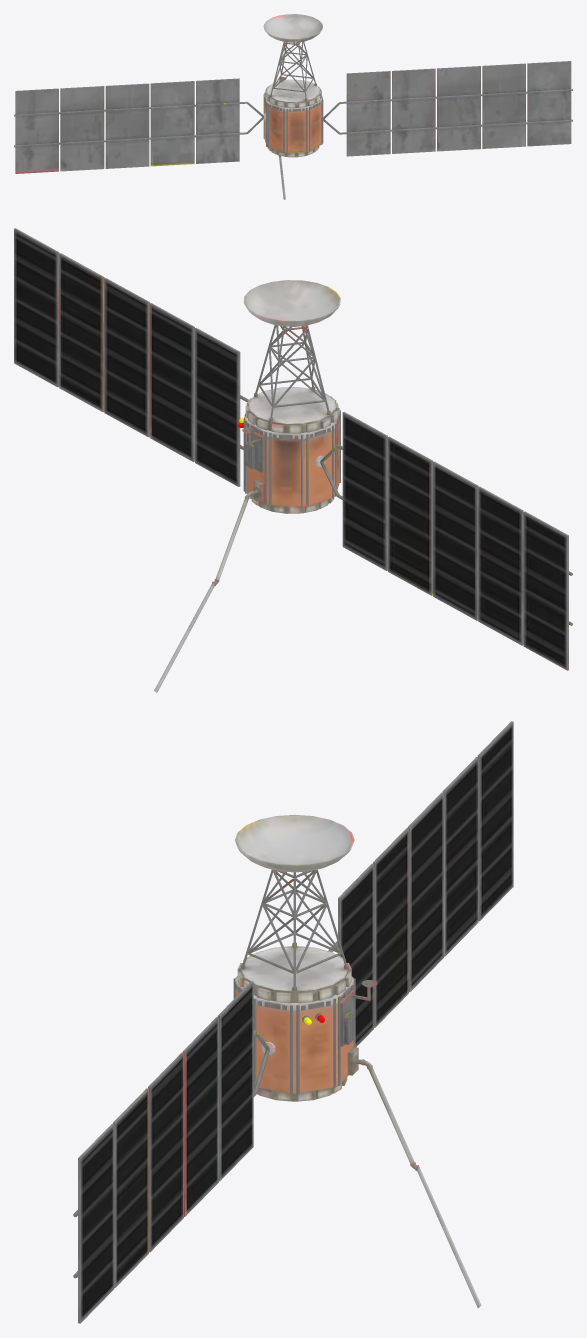
Rendered from satellite.glb.
3 views of the same model, one above another, from view 1: azimuth 30°, elevation 25°; view 2: azimuth 150°, elevation 25°; view 3: azimuth 270°, elevation 25° (orthographic). The views are drawn at different scales.
Parts seen in each view (by area): view 1: Object_2; view 2: Object_2; view 3: Object_2.
Boxes of the visible parts, x1,y1,x2,y2 form: Object_2: (14, 14, 572, 199); Object_2: (14, 228, 572, 692); Object_2: (73, 721, 513, 1323).
Bounding box in the file's own units: 17.13 × 7.85 × 7.25.
1 material, 1 textured.
